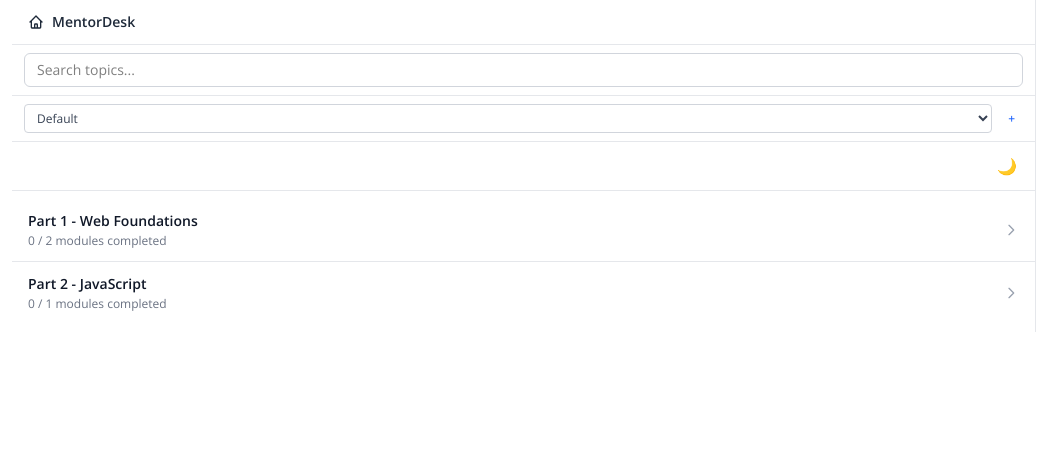
Test: TopicNavigator › allows manual toggle of Part sections
# Click Part 1 to expand it
Step 1. Click the text "Part 1 - Web Foundations" → (113, 220), box left=28, top=211, right=198, bottom=230
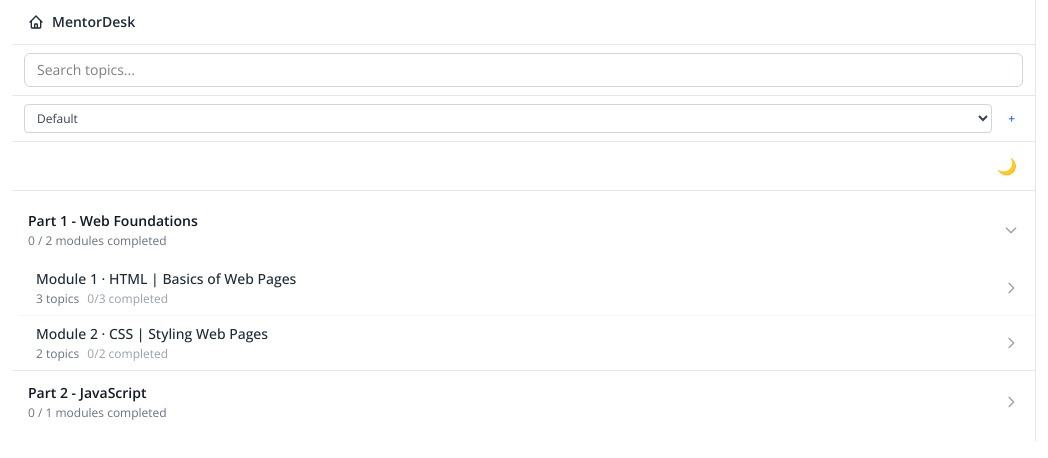
expect the text "Module 1 · HTML | Basics of Web Pages" is shown: met, box left=36, top=269, right=296, bottom=288
# Click Part 1 again to collapse it
Step 2. Click the text "Part 1 - Web Foundations" → (113, 220), box left=28, top=211, right=198, bottom=230
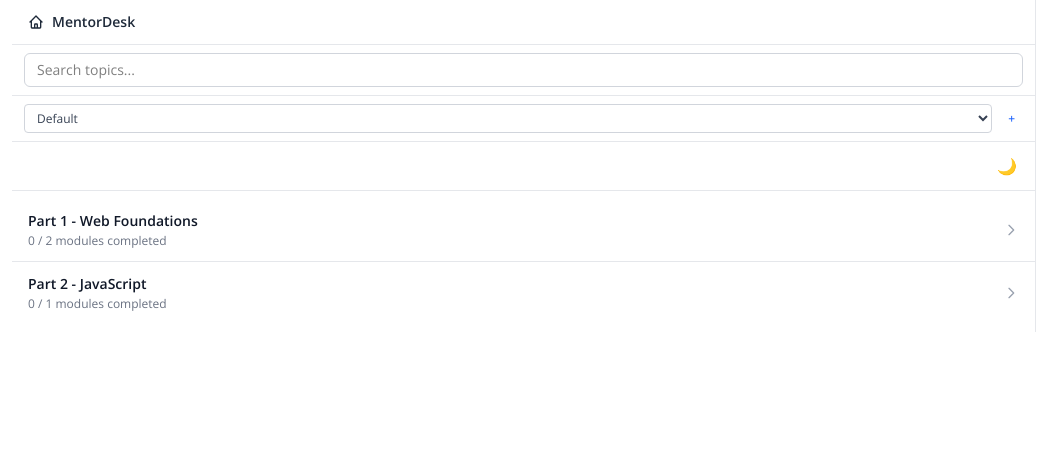
expect the button "Module 1 ·" is gone: met
